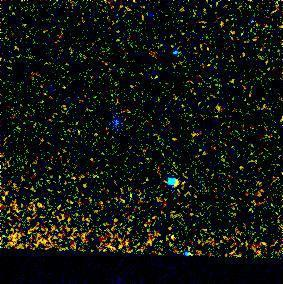star: (205, 94, 235, 124)
